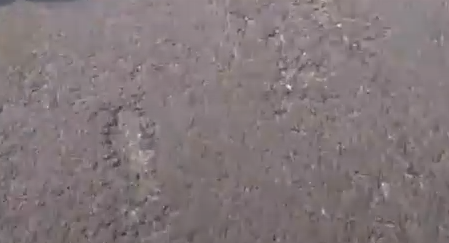Berlubang: (209, 9, 449, 243), (1, 50, 238, 243), (245, 17, 369, 243), (78, 83, 152, 243)
